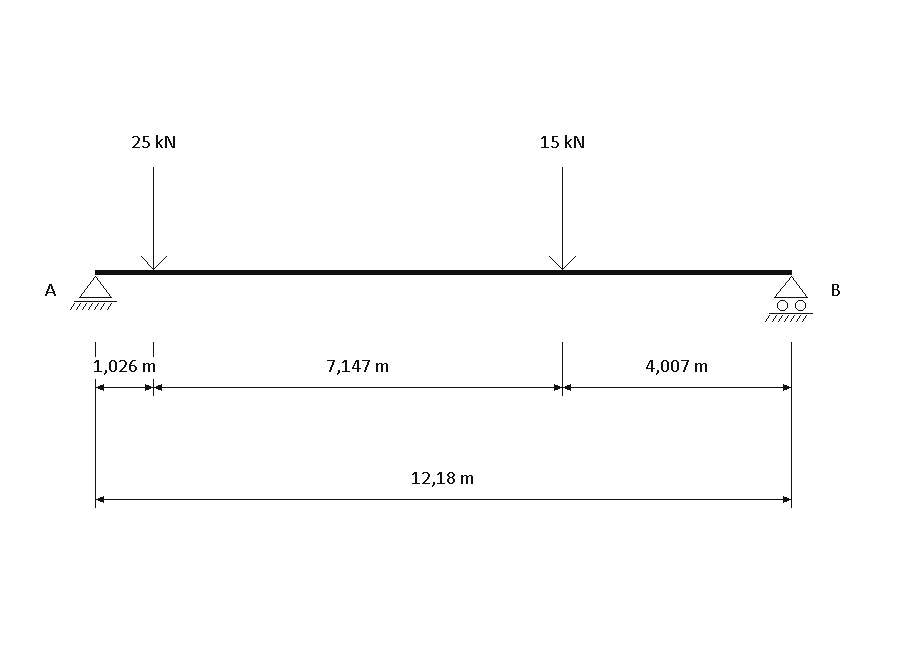pin_support: (70, 276, 117, 310)
point_load: (549, 167, 576, 270), (141, 167, 167, 270)
roller_support: (765, 276, 813, 322)
